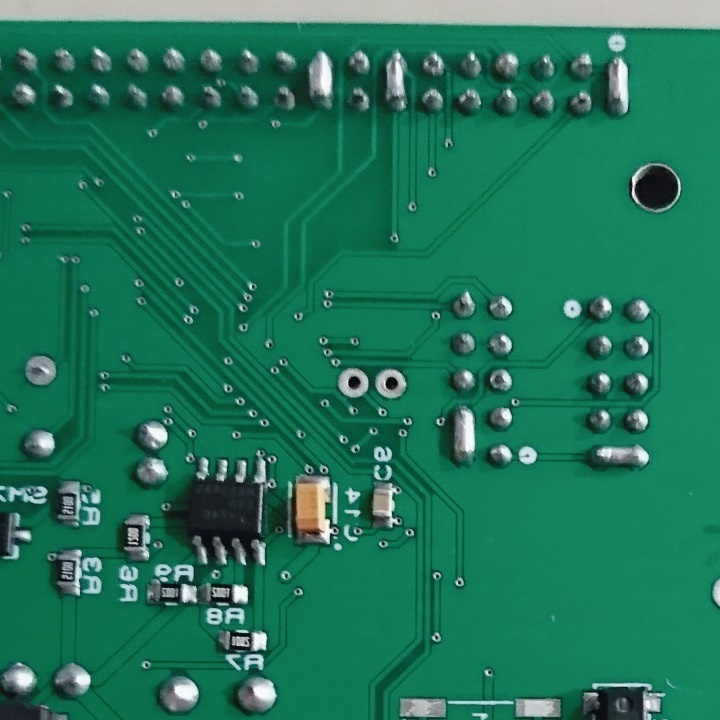F: (22, 353, 61, 389), (335, 363, 370, 403), (373, 366, 410, 403)
P: (582, 441, 654, 475), (305, 46, 338, 118), (381, 48, 413, 119), (449, 401, 480, 470), (604, 52, 633, 120)
